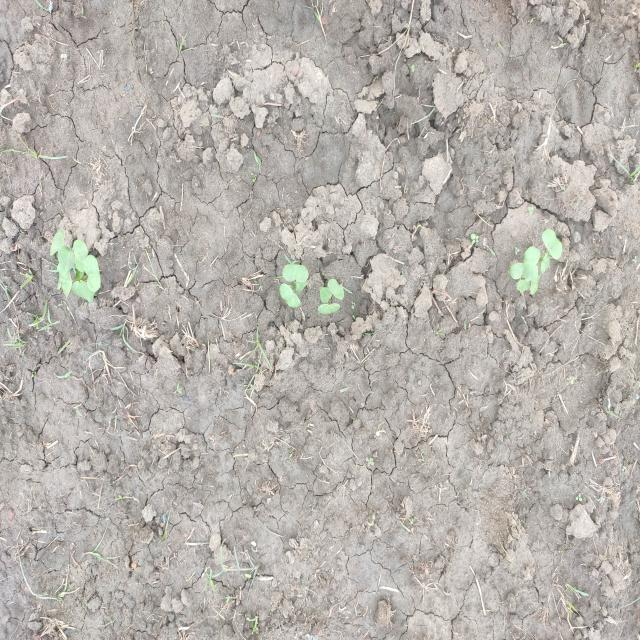seedling_s4: (84, 255, 101, 292), (542, 229, 562, 259), (522, 247, 540, 279), (57, 263, 73, 298), (279, 283, 301, 308), (282, 264, 308, 283), (72, 280, 94, 302), (73, 240, 88, 272), (58, 246, 75, 274), (50, 229, 65, 255), (328, 279, 344, 299), (318, 303, 340, 314), (510, 263, 524, 280), (541, 252, 550, 274), (320, 287, 332, 303), (531, 273, 540, 294), (517, 280, 530, 293), (296, 282, 308, 292), (75, 270, 85, 281)
